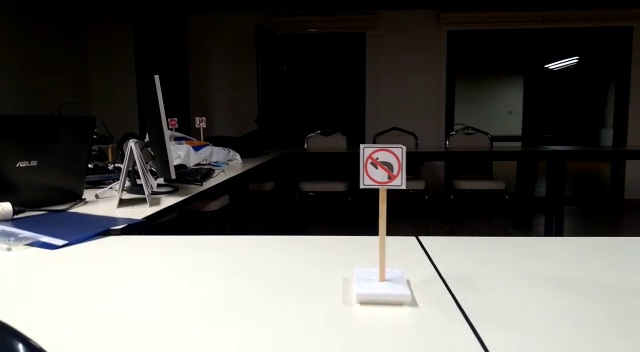sola_donulmez: (361, 145, 402, 189)
